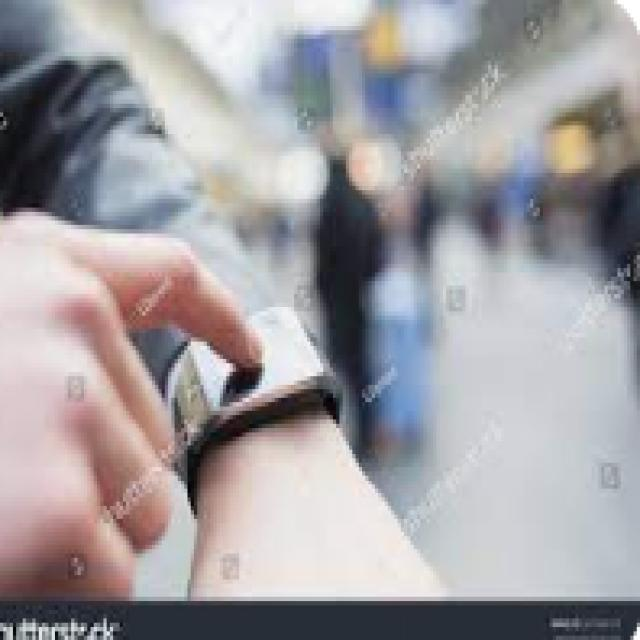Watch: (166, 303, 338, 484)
